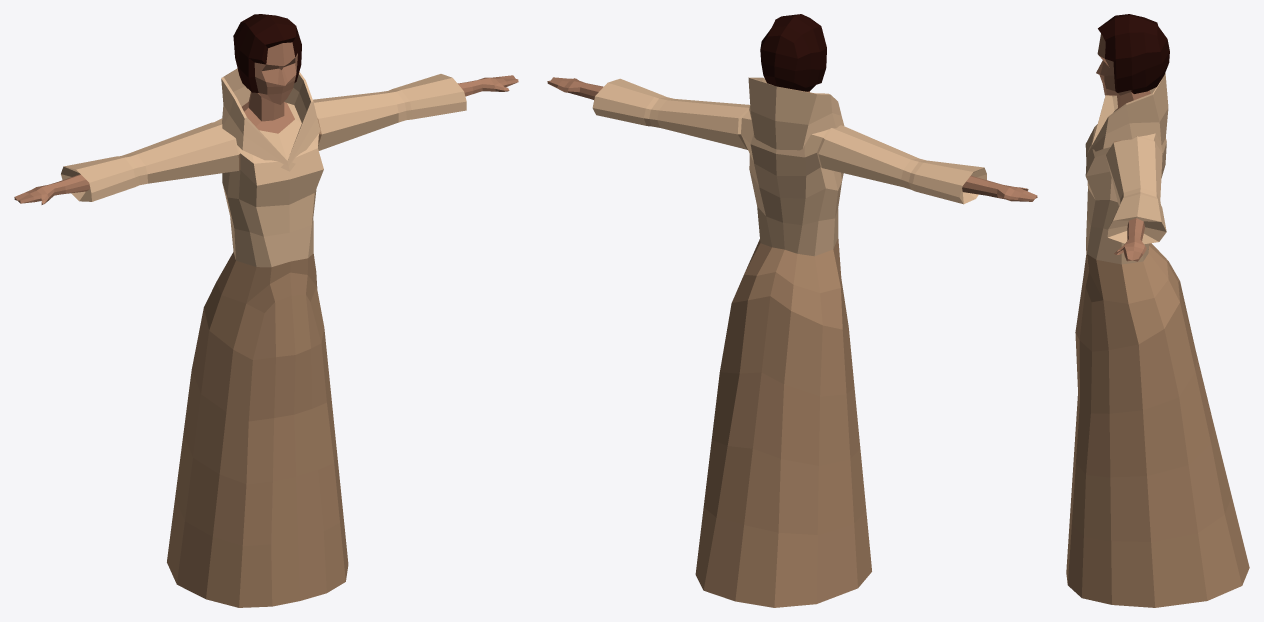
Rendered from _chap2Klara.fbx.
3 renders of one model, left to right at view 1: azimuth 30°, elevation 25°; view 2: azimuth 150°, elevation 25°; view 3: azimuth 270°, elevation 25°, orthographic. The views are drawn at different scales.
Parts seen in each view (by area): view 1: _chap2Klara; view 2: _chap2Klara; view 3: _chap2Klara.
Part boxes in pixels (left/top/right/bottom): _chap2Klara: left=14, top=14, right=518, bottom=607; _chap2Klara: left=547, top=14, right=1037, bottom=607; _chap2Klara: left=1066, top=14, right=1249, bottom=607.
Size of the model in its own units: 1.86 by 2.03 by 0.5984.
